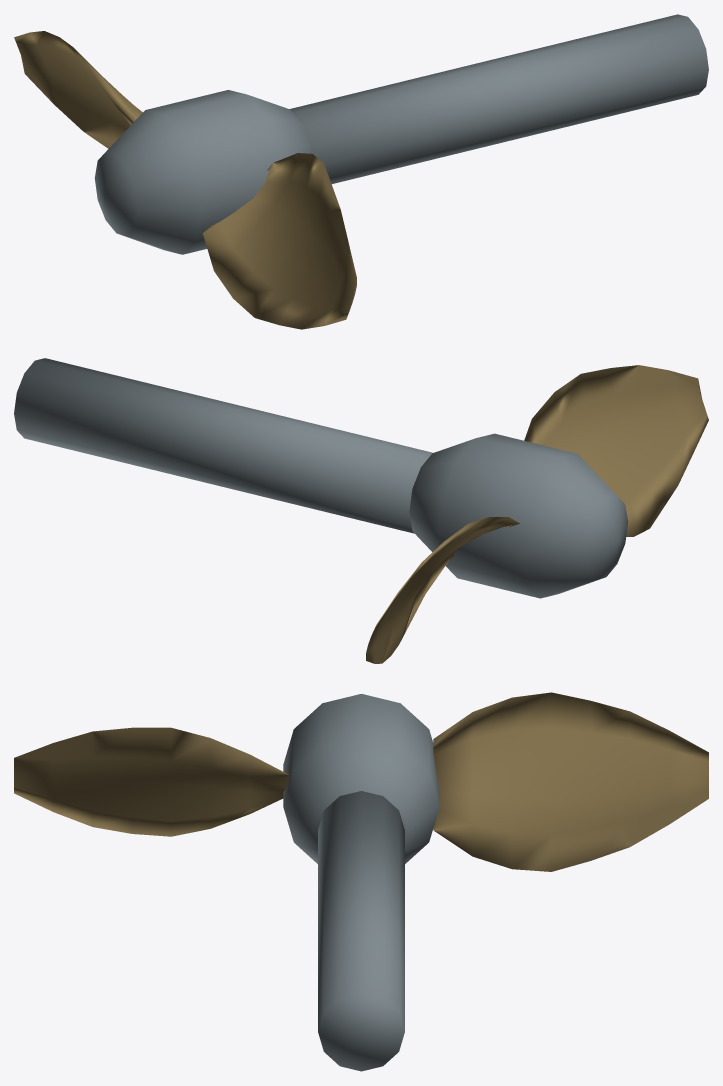
The model's file is PROP_T01_EARLY_LOD2.fbx.
3 renders of one model, top to bottom at view 1: azimuth 30°, elevation 25°; view 2: azimuth 150°, elevation 25°; view 3: azimuth 270°, elevation 25°, orthographic. The views are drawn at different scales.
Visible parts, largest first — view 1: PROP_T01_EARLY_LOD2_Shaft.001, PROP_T01_EARLY_LOD2_Hub.001, PROP_T01_EARLY_LOD2_Blade_01.001, PROP_T01_EARLY_LOD2_Blade_00.001; view 2: PROP_T01_EARLY_LOD2_Shaft.001, PROP_T01_EARLY_LOD2_Hub.001, PROP_T01_EARLY_LOD2_Blade_01.001, PROP_T01_EARLY_LOD2_Blade_00.001; view 3: PROP_T01_EARLY_LOD2_Blade_00.001, PROP_T01_EARLY_LOD2_Shaft.001, PROP_T01_EARLY_LOD2_Blade_01.001, PROP_T01_EARLY_LOD2_Hub.001.
Boxes of the visible parts, left/top/right/bottom form: PROP_T01_EARLY_LOD2_Shaft.001: left=289, top=14, right=708, bottom=183; PROP_T01_EARLY_LOD2_Hub.001: left=94, top=90, right=311, bottom=254; PROP_T01_EARLY_LOD2_Blade_01.001: left=202, top=153, right=356, bottom=329; PROP_T01_EARLY_LOD2_Blade_00.001: left=14, top=31, right=142, bottom=148; PROP_T01_EARLY_LOD2_Shaft.001: left=14, top=358, right=432, bottom=533; PROP_T01_EARLY_LOD2_Hub.001: left=409, top=433, right=628, bottom=598; PROP_T01_EARLY_LOD2_Blade_01.001: left=524, top=365, right=708, bottom=536; PROP_T01_EARLY_LOD2_Blade_00.001: left=366, top=517, right=519, bottom=663; PROP_T01_EARLY_LOD2_Blade_00.001: left=433, top=692, right=708, bottom=871; PROP_T01_EARLY_LOD2_Shaft.001: left=318, top=791, right=404, bottom=1071; PROP_T01_EARLY_LOD2_Blade_01.001: left=14, top=727, right=289, bottom=836; PROP_T01_EARLY_LOD2_Hub.001: left=283, top=694, right=439, bottom=863.
Size of the model in its own units: 325 by 320 by 73.32.
